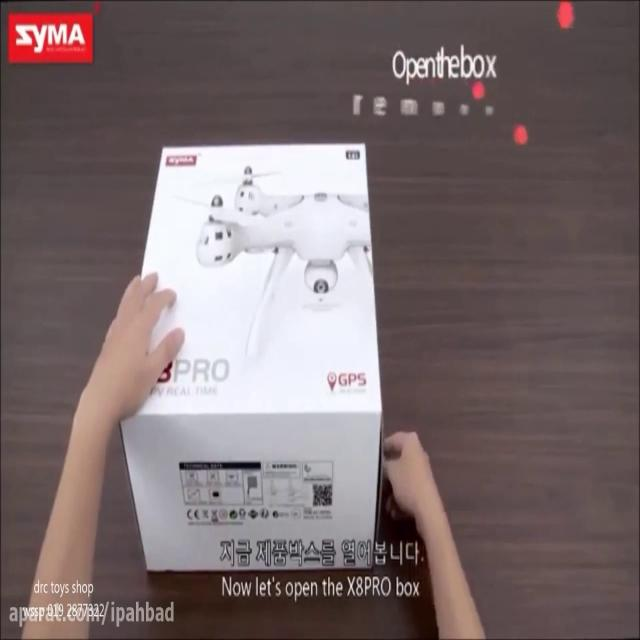drone: (171, 162, 377, 342)
